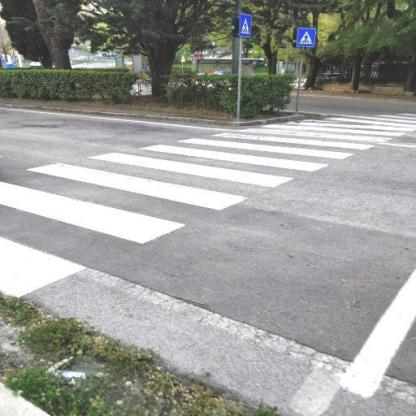crosswalk: (18, 149, 308, 217)
